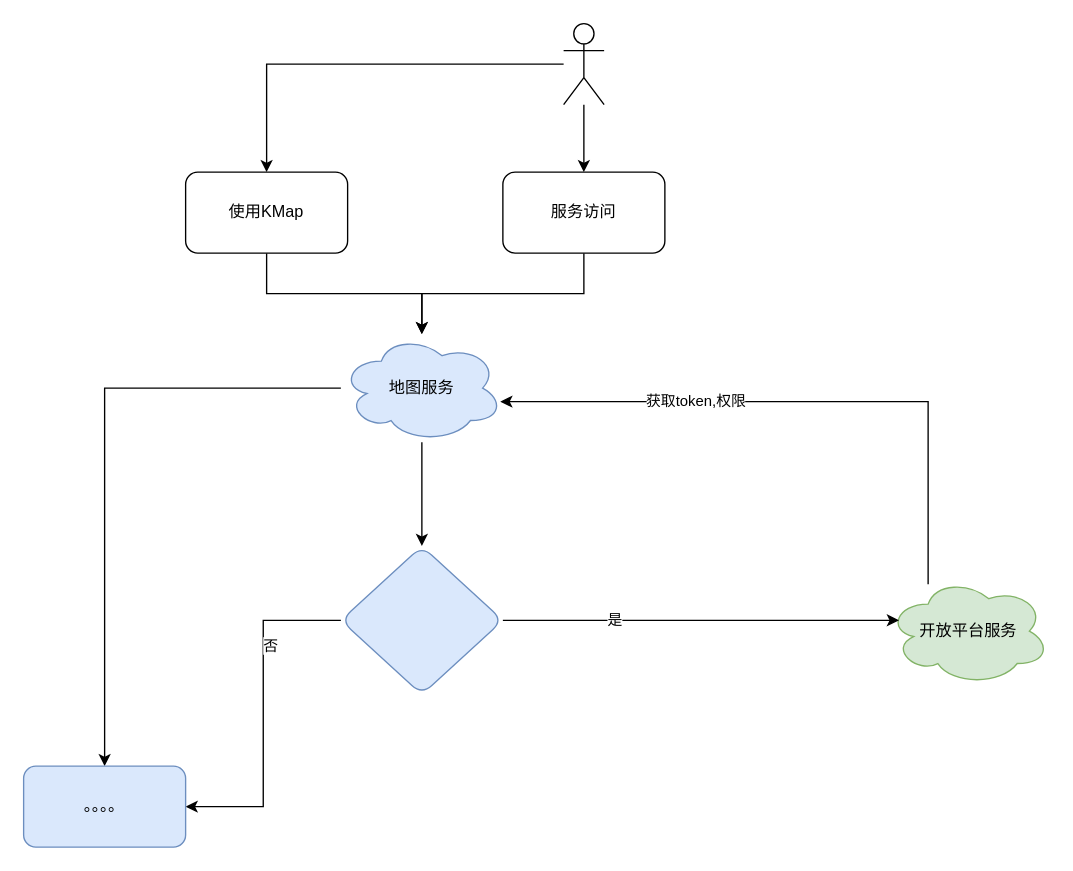
The diagram is 1073 pixels wide and 871 high, and some of its shapes have lost their labels. The shapes that lost their labels are listed below. From the top down, each one's centre as x and y in pixels, then its label:
At point (583, 63): "用户".
At point (421, 620): "令牌属性是 否开放平台".
